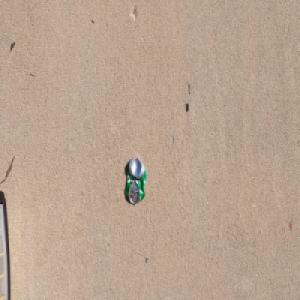SodaCan: (124, 156, 147, 205)
